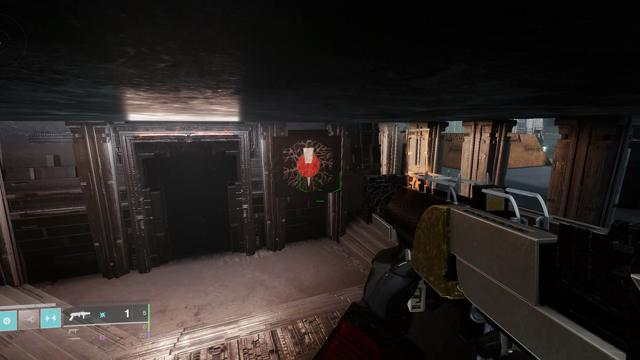kill: (282, 140, 333, 193)
